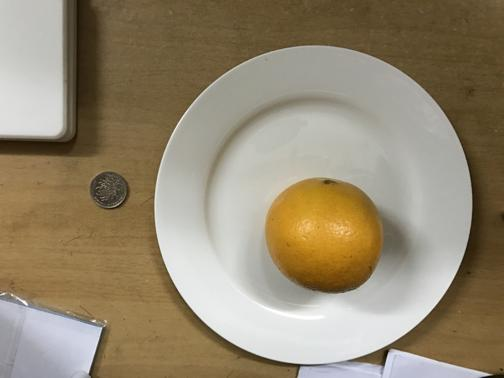coin: (88, 171, 127, 209)
orange: (265, 176, 383, 294)
